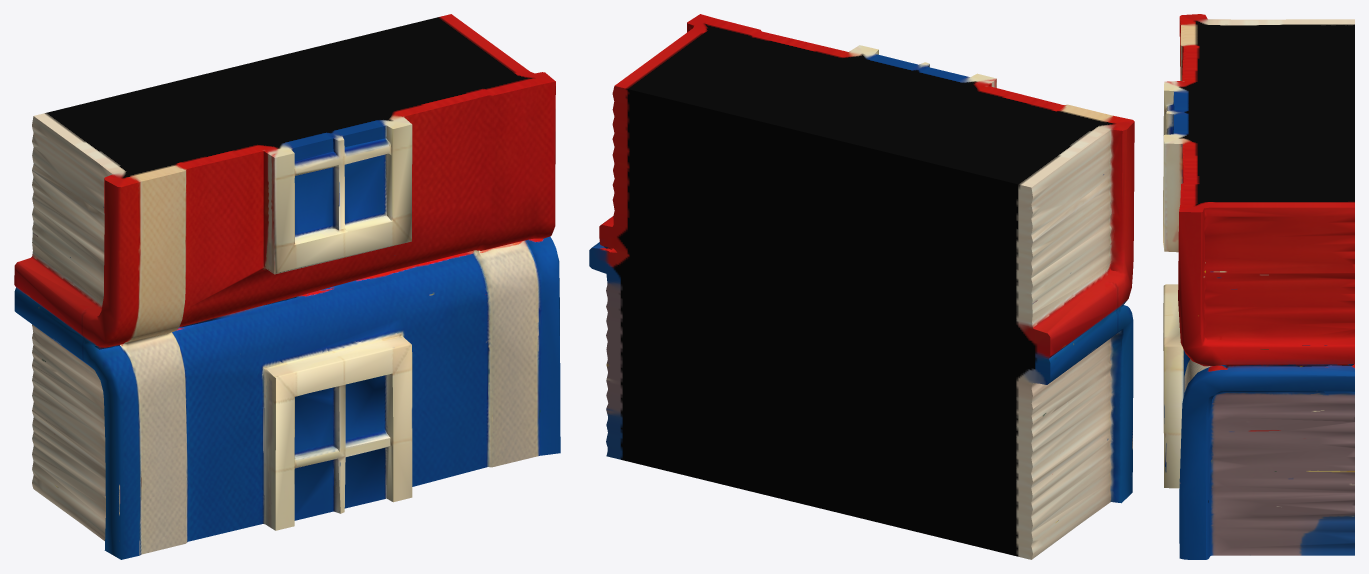
File: 5-upper-walls-front-left.fbx
3 renders of one model, left to right at view 1: azimuth 30°, elevation 25°; view 2: azimuth 150°, elevation 25°; view 3: azimuth 270°, elevation 25°, orthographic. The views are drawn at different scales.
Visible parts, largest first — view 1: upper-walls-front-left; view 2: upper-walls-front-left; view 3: upper-walls-front-left.
Boxes of the visible parts, box(x1,y1,x2,y2) form: upper-walls-front-left: box(14, 14, 560, 559); upper-walls-front-left: box(589, 14, 1134, 559); upper-walls-front-left: box(1163, 14, 1354, 559).
Bounding box in the file's own units: 3867 × 2984 × 1507.
1 material, 1 textured.
